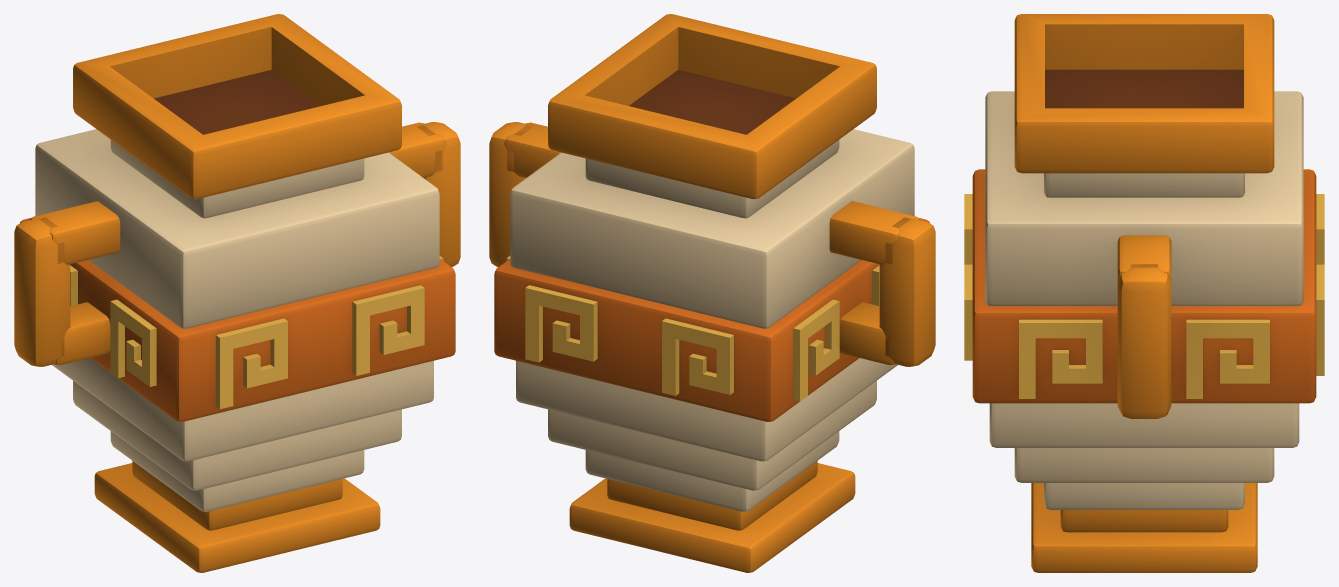
The model's file is ArtV11_Vase.fbx.
The picture shows the model from 3 angles, left to right: view 1: azimuth 30°, elevation 25°; view 2: azimuth 150°, elevation 25°; view 3: azimuth 270°, elevation 25°; orthographic projection. The views are drawn at different scales.
Visible parts, largest first — view 1: ArtV11_Vase; view 2: ArtV11_Vase; view 3: ArtV11_Vase.
Boxes of the visible parts, x1,y1,x2,y2 form: ArtV11_Vase: (14, 14, 460, 572); ArtV11_Vase: (489, 14, 935, 572); ArtV11_Vase: (964, 14, 1324, 572).
Bounding box in the file's own units: 3.16 × 3.04 × 2.15.
